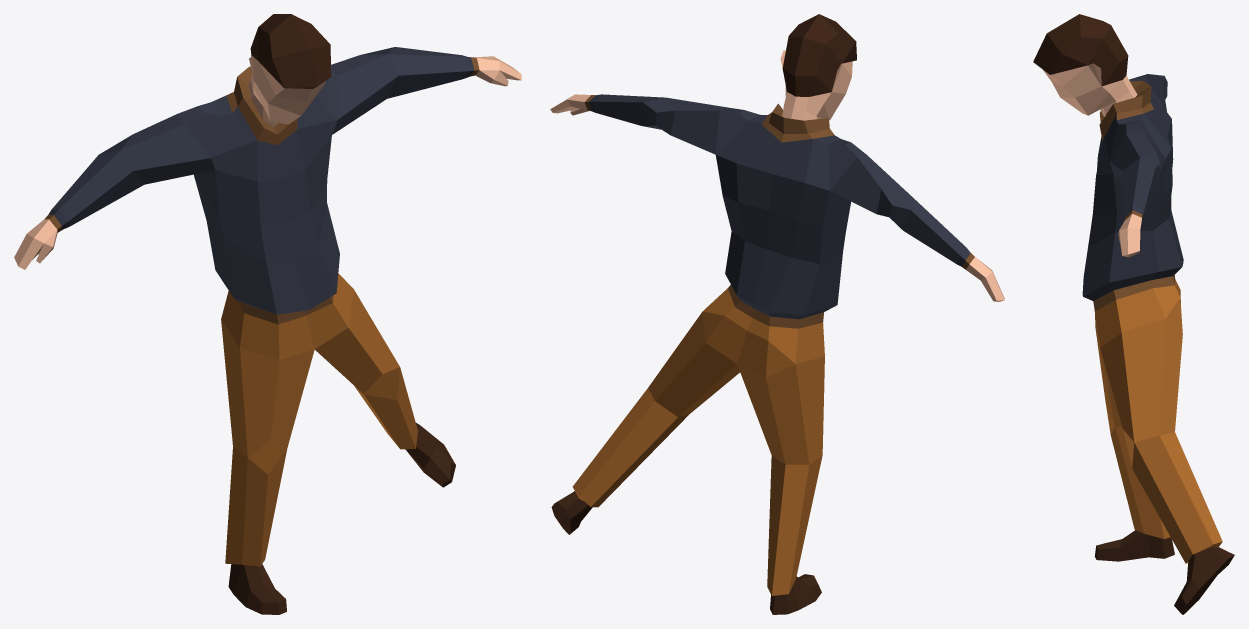
Rendered from AutumnBoy.001.glb.
The picture shows the model from 3 angles, left to right: view 1: azimuth 30°, elevation 25°; view 2: azimuth 150°, elevation 25°; view 3: azimuth 270°, elevation 25°; orthographic projection. The views are drawn at different scales.
Visible parts, largest first — view 1: AutumnBoy.001; view 2: AutumnBoy.001; view 3: AutumnBoy.001.
Part boxes in pixels (x1,y1,x2,y2): AutumnBoy.001: [14, 14, 521, 614]; AutumnBoy.001: [550, 14, 1004, 614]; AutumnBoy.001: [1033, 14, 1234, 614].
Size of the model in its own units: 1.32 by 1.55 by 0.5202.
1 material, 1 textured.
